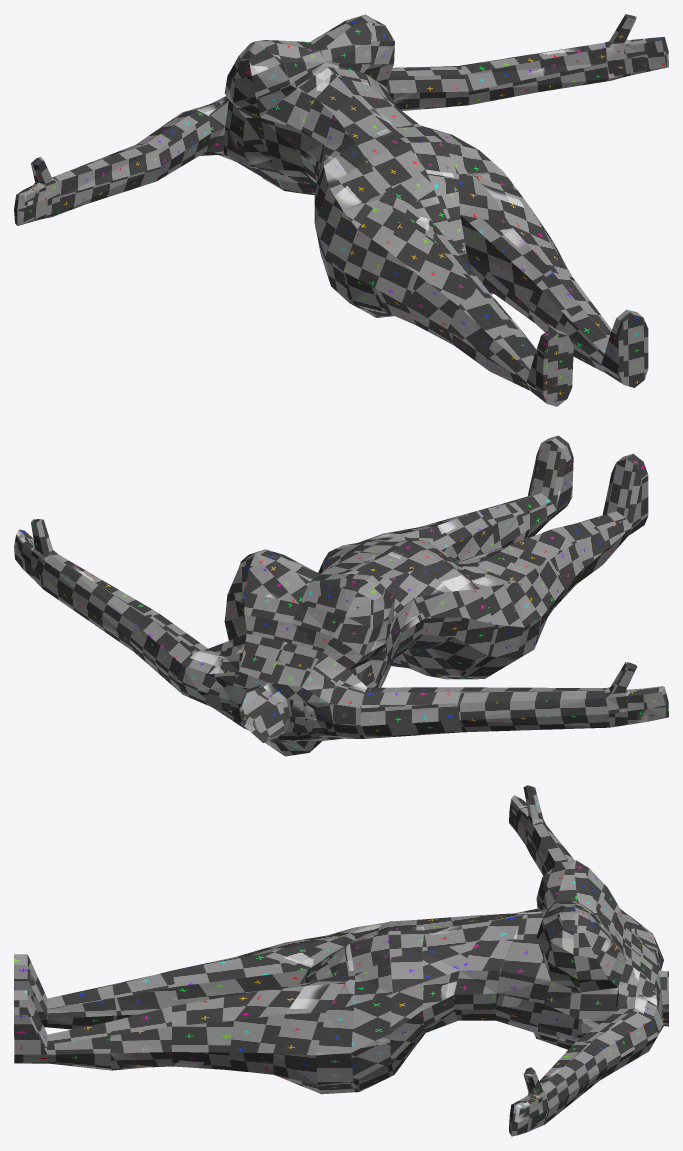
Rendered from women.dae.
3 renders of one model, top to bottom at view 1: azimuth 30°, elevation 25°; view 2: azimuth 150°, elevation 25°; view 3: azimuth 270°, elevation 25°, orthographic.
Parts seen in each view (by area): view 1: Cylinder; view 2: Cylinder; view 3: Cylinder.
Part boxes in pixels (bbox=[...]): Cylinder: bbox=[14, 14, 668, 406]; Cylinder: bbox=[14, 435, 668, 756]; Cylinder: bbox=[14, 785, 668, 1136].
Size of the model in its own units: 4.26 by 3.76 by 1.17.
1 material, 1 textured.
